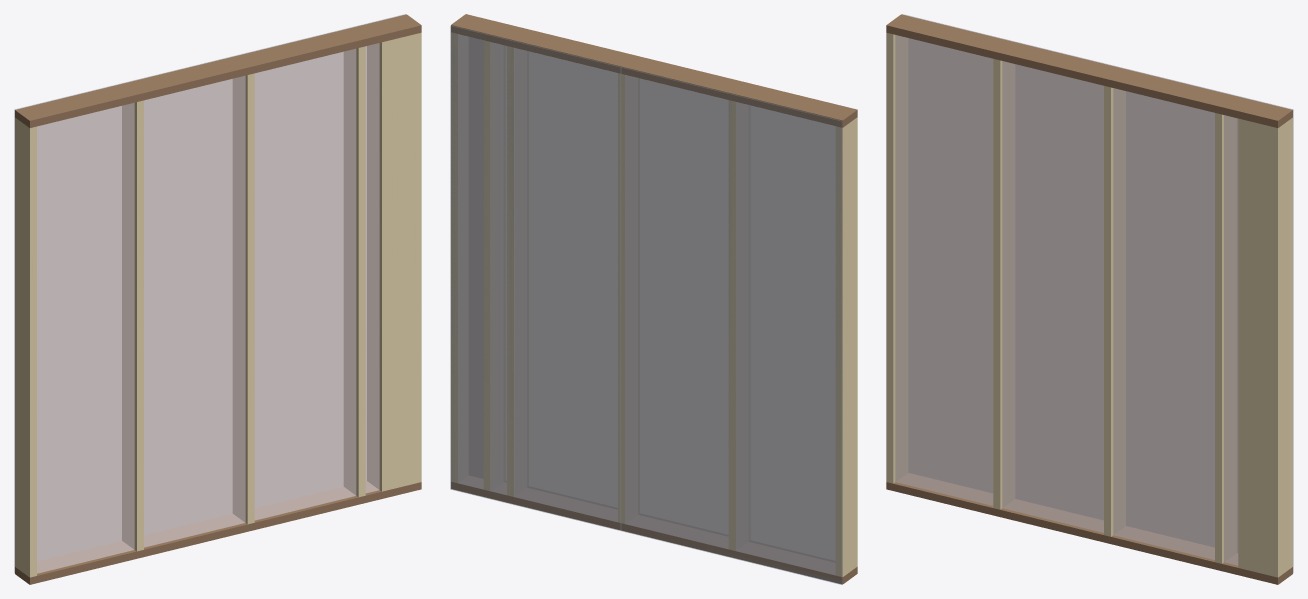
The picture shows the model from 3 angles, left to right: view 1: azimuth 30°, elevation 25°; view 2: azimuth 150°, elevation 25°; view 3: azimuth 330°, elevation 25°; orthographic projection.
Parts seen in each view (by area): view 1: EX3 FF; view 2: EX3 FF; view 3: EX3 FF.
Boxes of the visible parts, x1,y1,x2,y2 form: EX3 FF: (14,14,421,584); EX3 FF: (450,14,857,584); EX3 FF: (886,14,1293,584).
Size of the model in its own units: 2.12 by 2.4 by 0.149.
